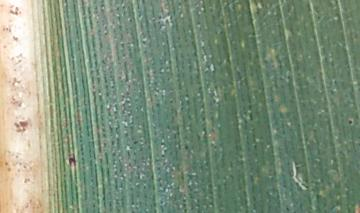tarspot: (65, 155, 78, 166), (347, 118, 354, 126), (185, 144, 190, 152)
